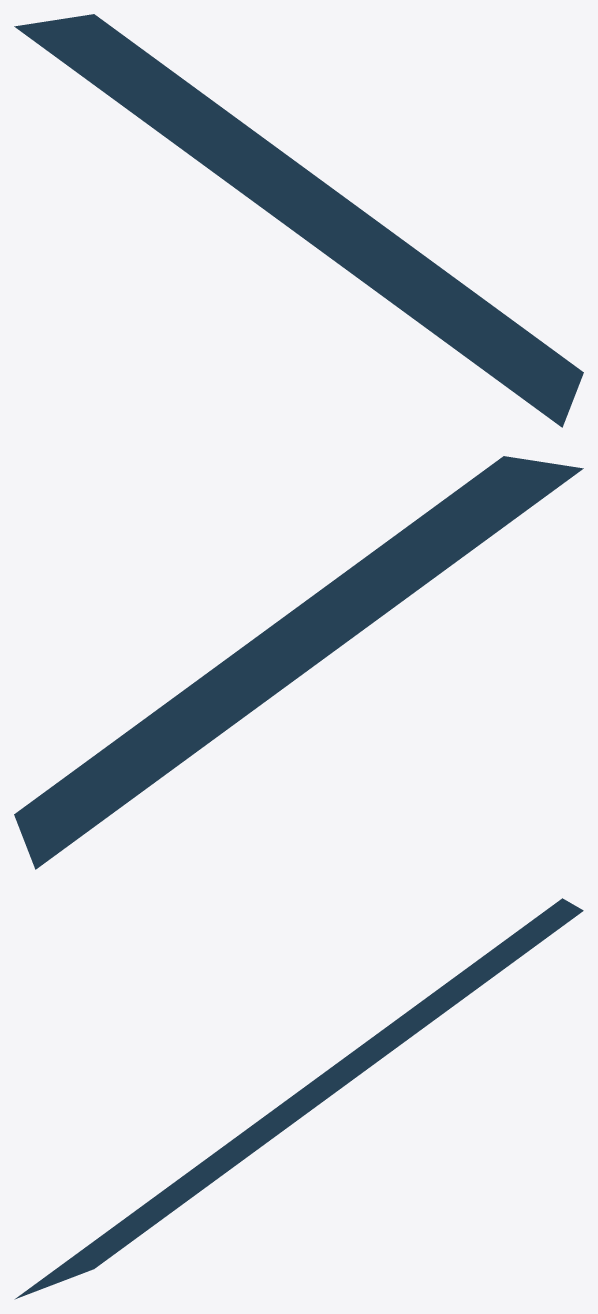
File: 1112-Buildings-shell-pieces-roof-emitRoof-2-triangles-0-45-x-0-18-x-8-40-m-from-resid.glb
3 views of the same model, one above another, from view 1: azimuth 30°, elevation 25°; view 2: azimuth 150°, elevation 25°; view 3: azimuth 330°, elevation 25° (orthographic).
Visible parts, largest first — view 1: emitRoof; view 2: emitRoof; view 3: emitRoof.
Part boxes in pixels (box(x1,y1,x2,y2)): emitRoof: box(14, 14, 583, 427); emitRoof: box(14, 456, 583, 869); emitRoof: box(14, 898, 583, 1299).
Bounding box in the file's own units: 0.45 × 0.1818 × 8.4.
